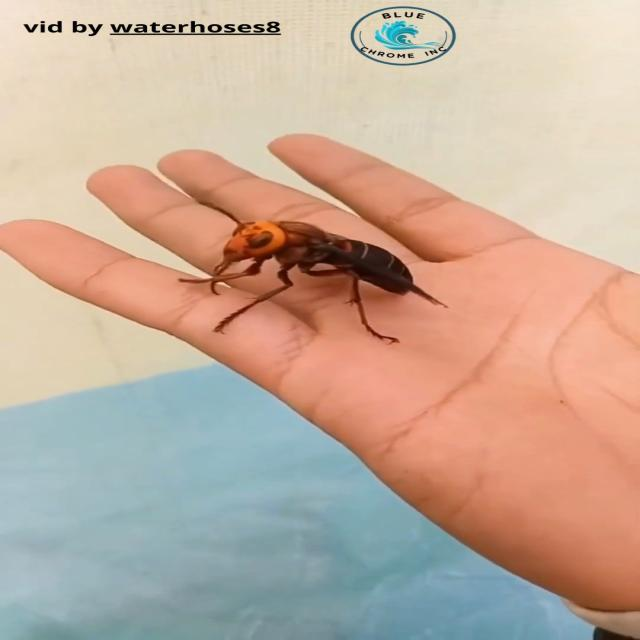Hornets: (180, 198, 453, 348)
